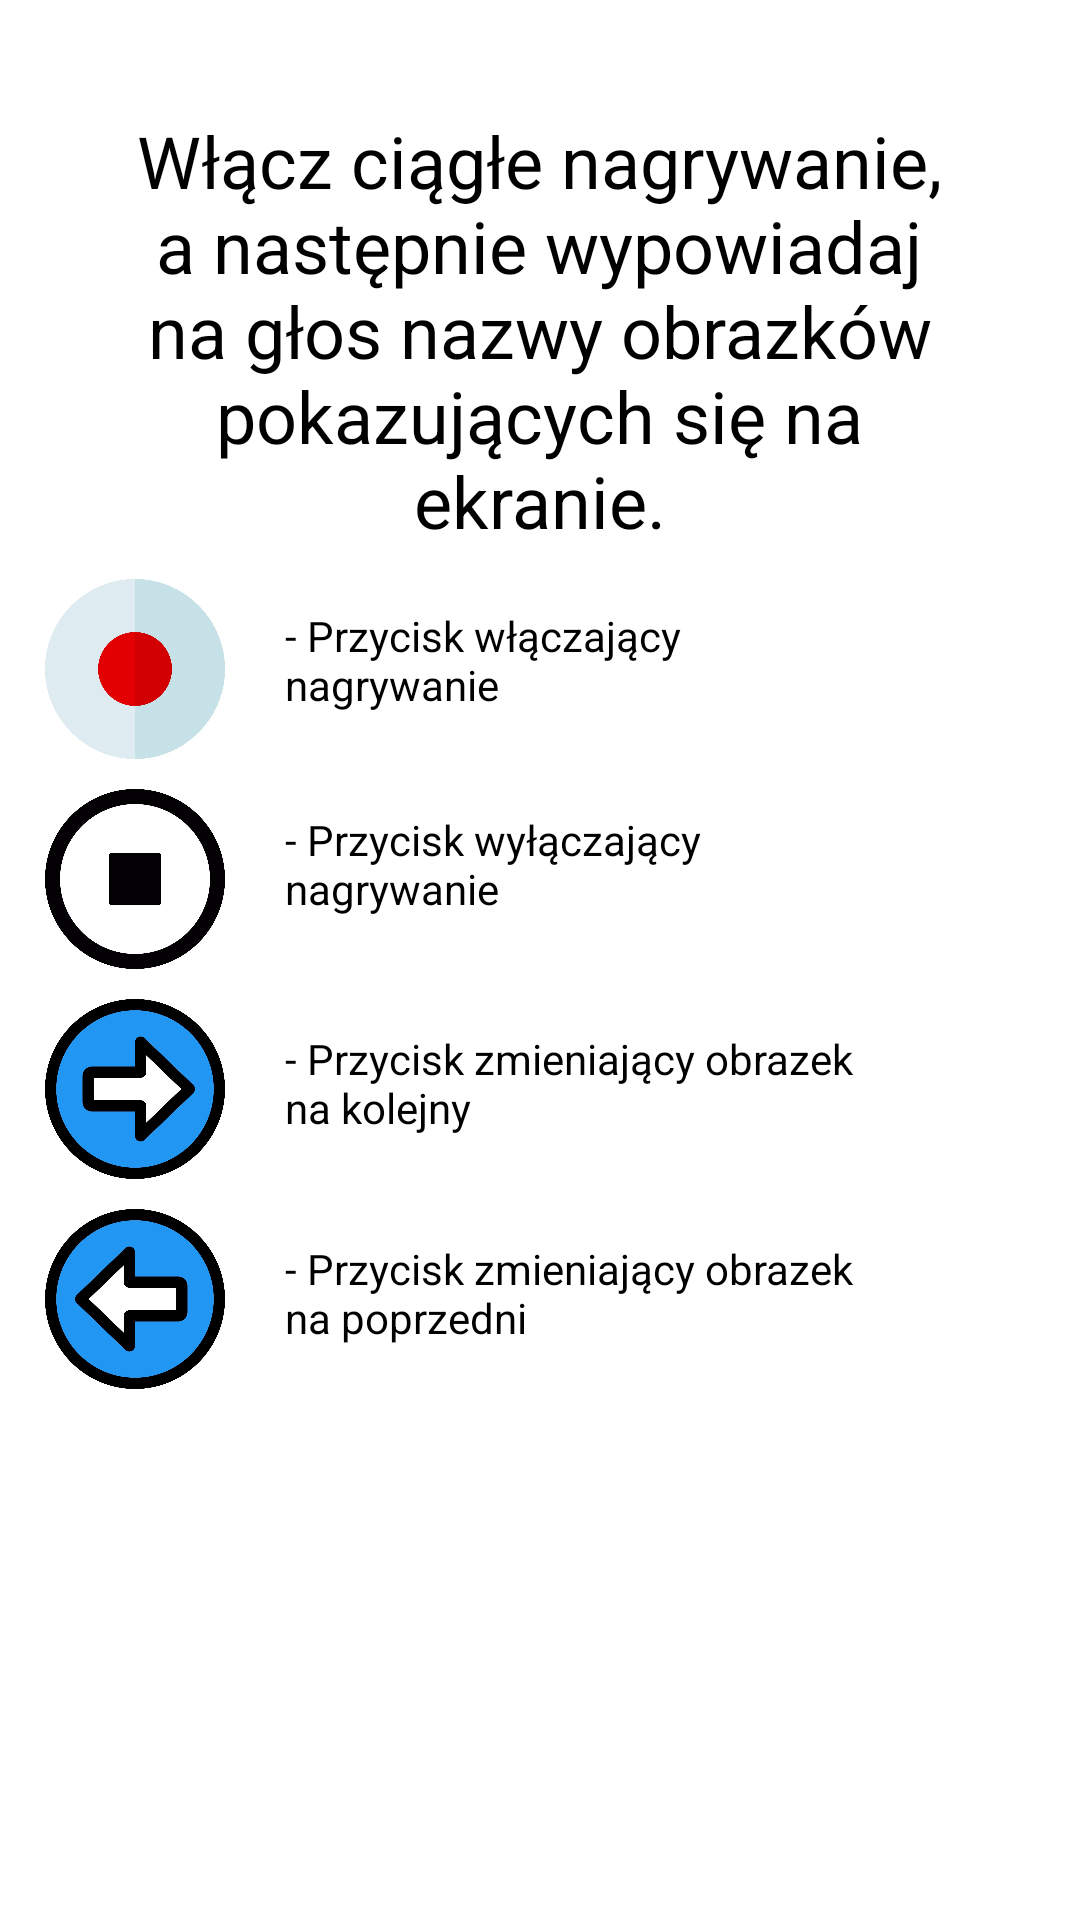

Named icons in this screenshot (1080 × 1920) and their bounding boxes, (x1, y1, x2, y2):
next: (45, 999, 225, 1179)
previous: (45, 1209, 225, 1389)
record: (45, 579, 225, 759)
stop: (45, 789, 225, 969)
